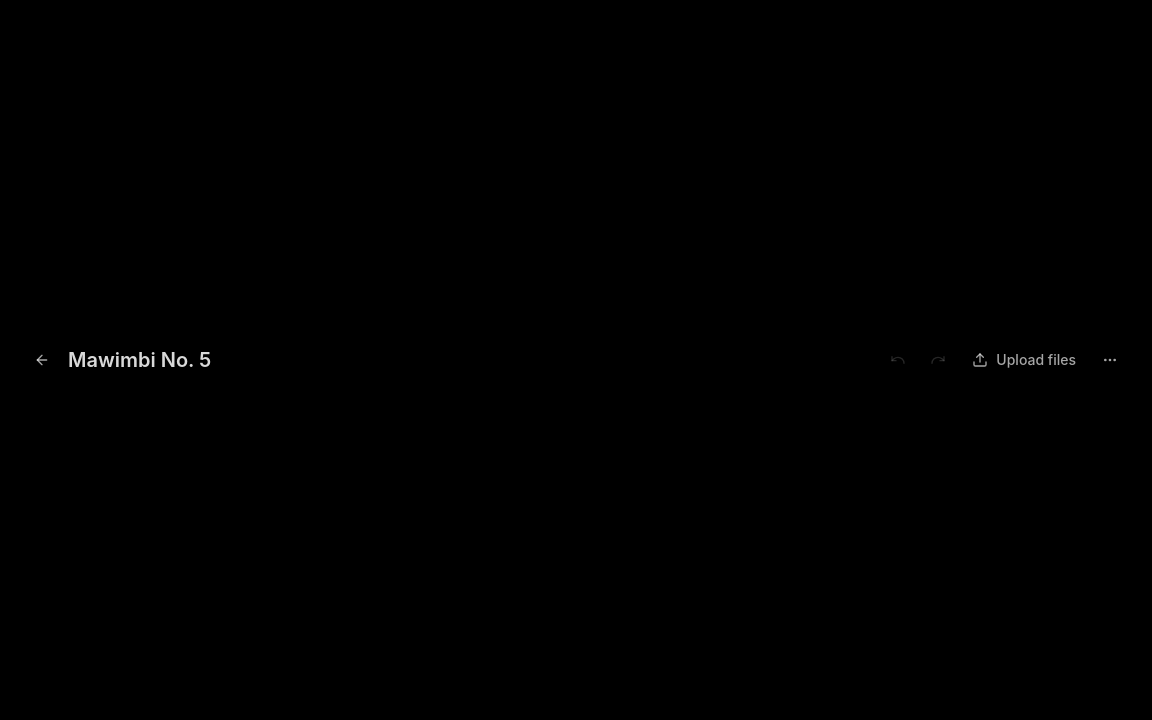
opens rename modal when title is clicked
Click the heading "Mawimbi No. 5" at (140, 360), box [68, 348, 211, 372]
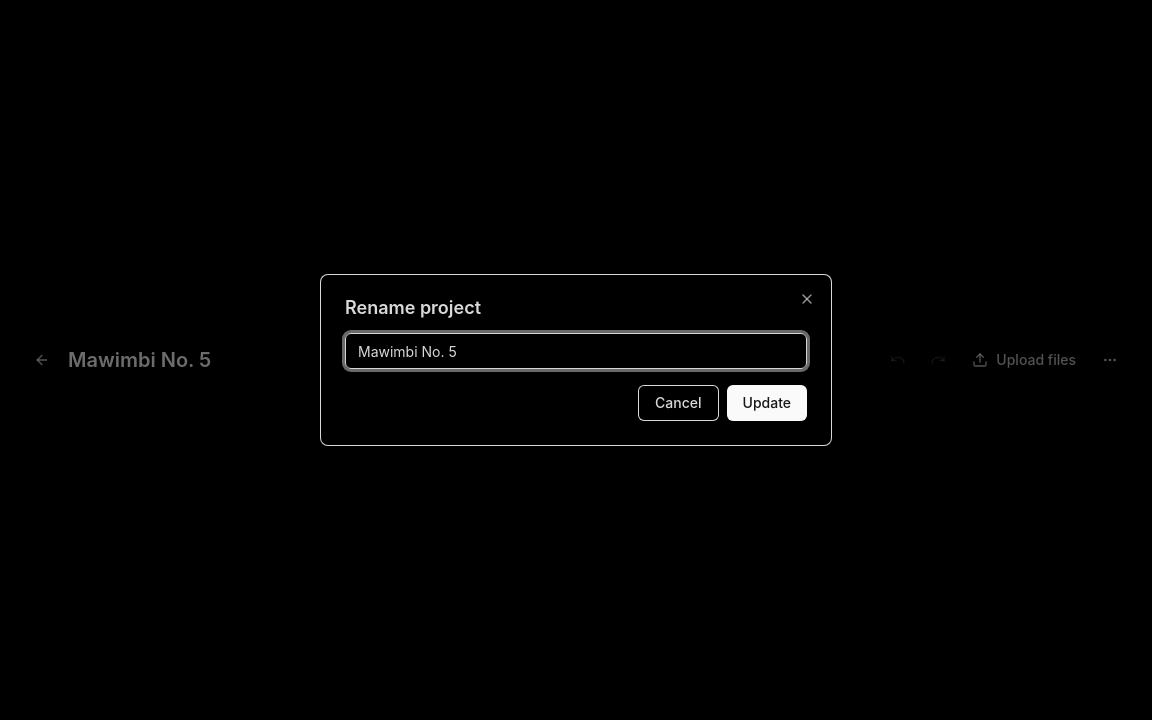
Expected: the heading "Rename project" is shown, [345, 297, 481, 318]
Expected: the field holds "Mawimbi No. 5", [345, 333, 807, 369]
